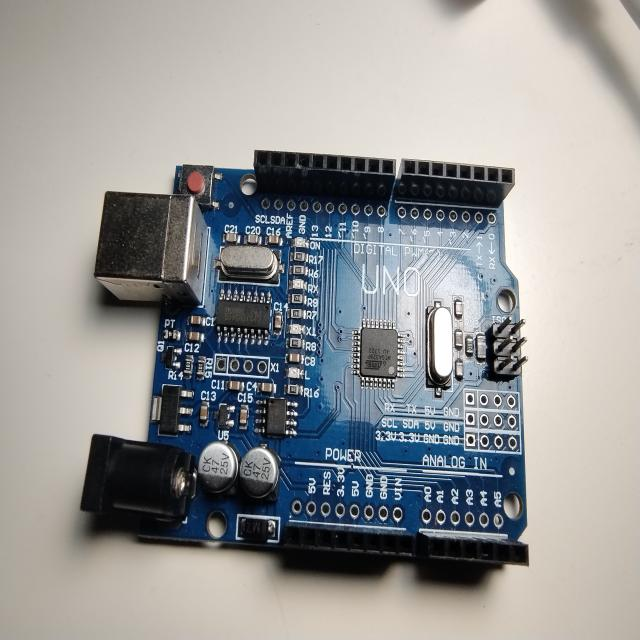arduino: (96, 142, 537, 578)
